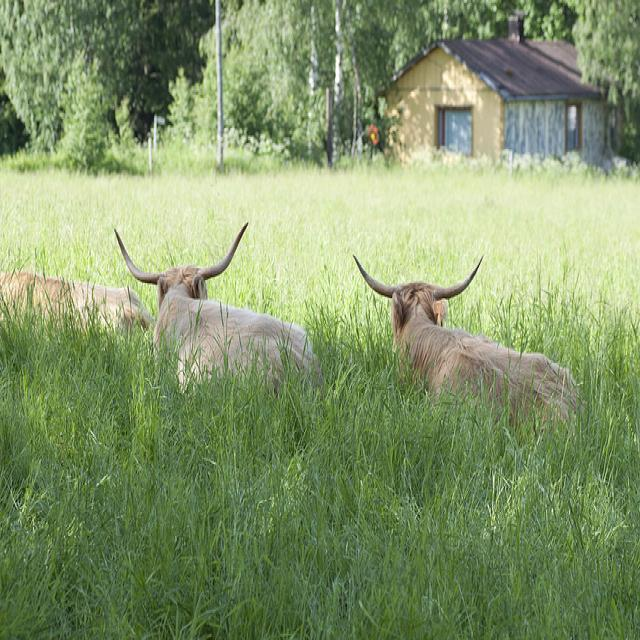cow: (352, 250, 582, 423), (114, 223, 320, 379), (0, 271, 156, 345)
